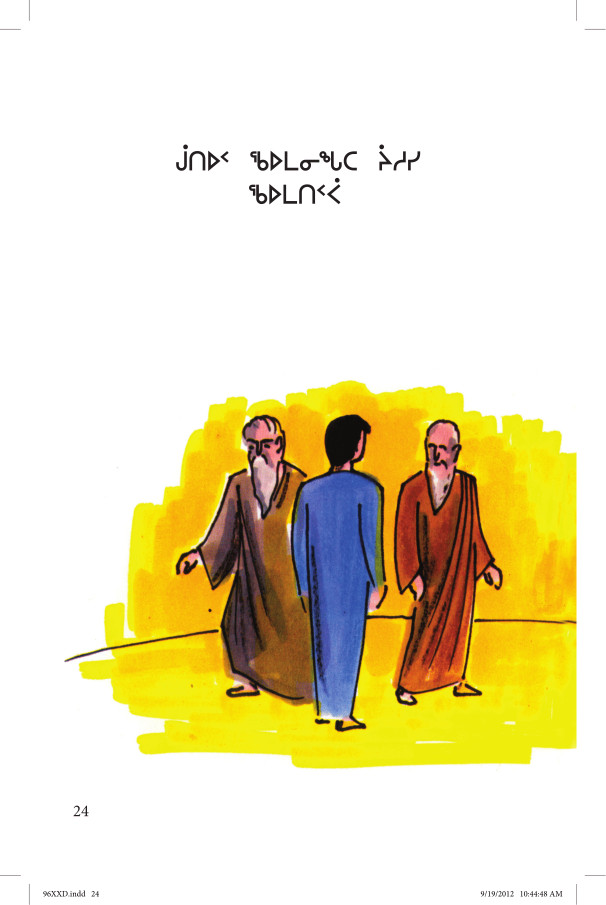inuktitut: (168, 132, 426, 216)
